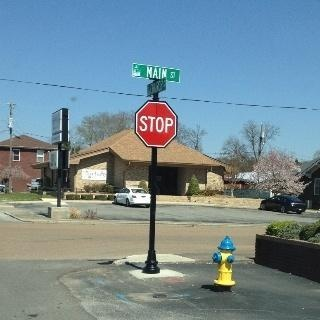sign_stop: (133, 100, 180, 142)
